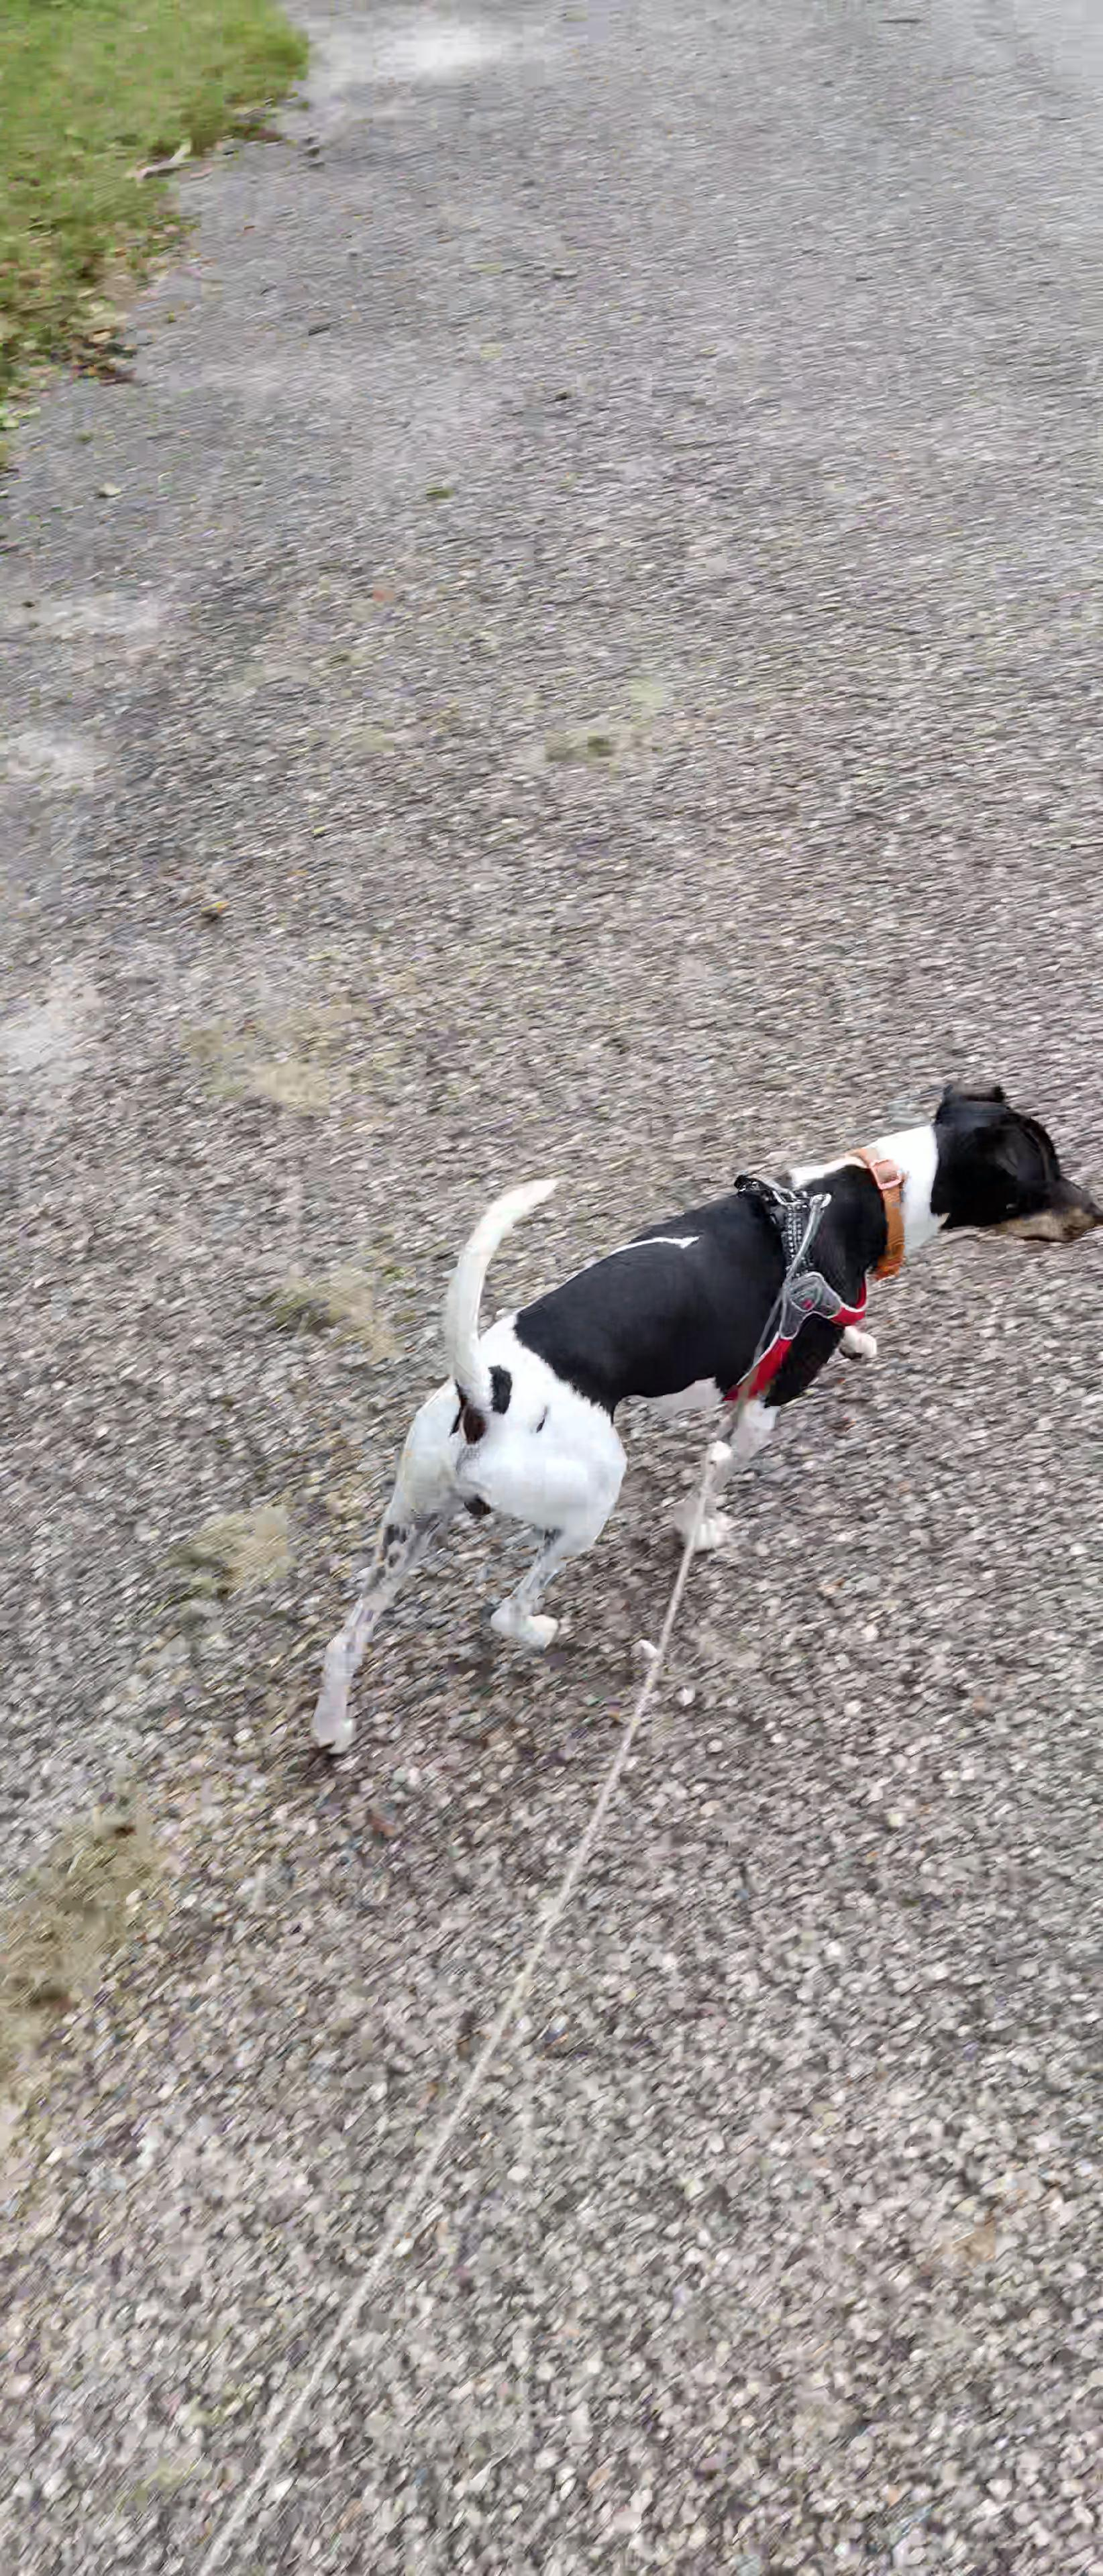Dog: (293, 1046, 1103, 1797)
